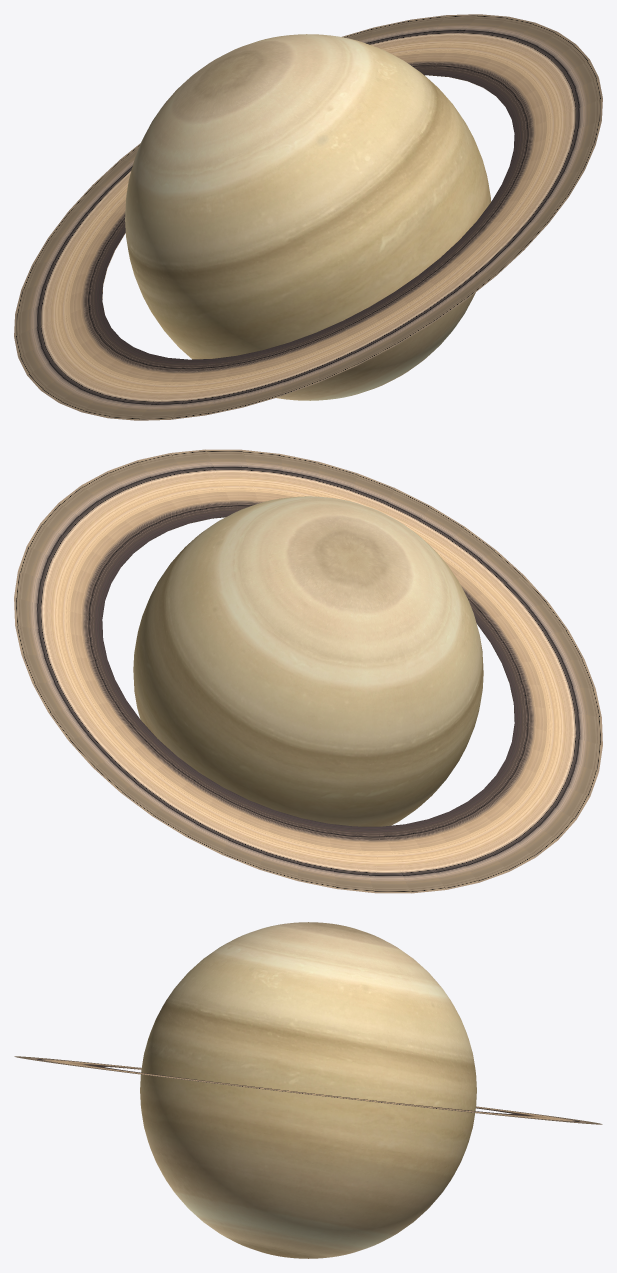
Rendered from Saturn.obj.
3 views of the same model, one above another, from view 1: azimuth 30°, elevation 25°; view 2: azimuth 150°, elevation 25°; view 3: azimuth 270°, elevation 25° (orthographic). The views are drawn at different scales.
Visible parts, largest first — view 1: Sphere, Torus.004; view 2: Torus.004, Sphere; view 3: Sphere, Torus.004.
Part boxes in pixels (<box>): Sphere: <box>125,34,491,400</box>; Torus.004: <box>14,14,602,420</box>; Torus.004: <box>14,449,602,893</box>; Sphere: <box>133,496,483,826</box>; Sphere: <box>140,922,476,1258</box>; Torus.004: <box>14,1056,602,1124</box>.
Size of the model in its own units: 3.22 by 2 by 3.5.
